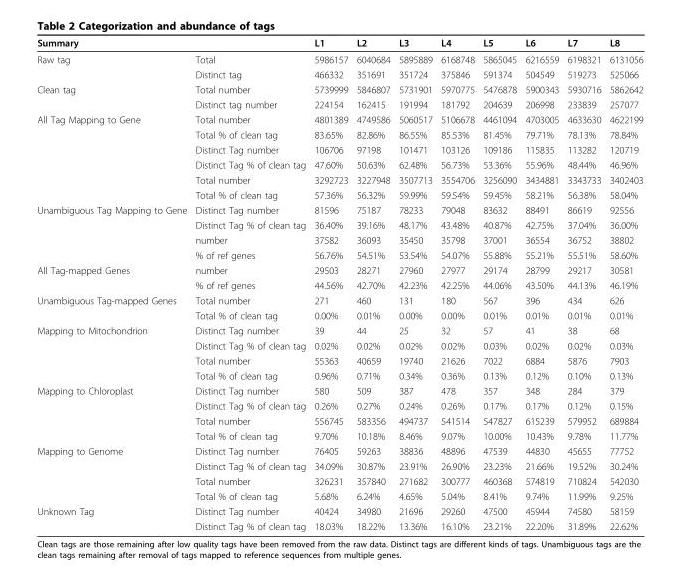table: (36, 36, 642, 531)
table column: (36, 36, 190, 531), (190, 36, 309, 531), (393, 36, 436, 531), (309, 36, 351, 531), (351, 36, 393, 531), (436, 36, 478, 531), (478, 36, 520, 531), (520, 36, 562, 531), (562, 36, 604, 531), (604, 36, 642, 531)
table column header: (36, 36, 642, 50)
table row: (36, 50, 642, 66), (36, 156, 642, 172), (36, 397, 642, 413), (36, 66, 642, 81), (36, 81, 642, 96), (36, 96, 642, 111), (36, 111, 642, 126), (36, 126, 642, 141), (36, 141, 642, 156), (36, 172, 642, 187), (36, 187, 642, 202), (36, 202, 642, 217), (36, 217, 642, 232), (36, 232, 642, 247), (36, 247, 642, 262), (36, 262, 642, 277), (36, 277, 642, 292), (36, 292, 642, 307), (36, 307, 642, 322), (36, 322, 642, 337), (36, 337, 642, 352), (36, 352, 642, 367), (36, 367, 642, 382), (36, 382, 642, 397), (36, 413, 642, 428), (36, 428, 642, 443), (36, 443, 642, 458), (36, 458, 642, 473), (36, 473, 642, 488), (36, 488, 642, 503), (36, 503, 642, 518), (36, 36, 642, 50), (36, 518, 642, 531)
table spanning cell: (36, 111, 190, 202), (36, 382, 190, 443), (36, 202, 190, 262), (36, 322, 190, 382), (36, 443, 190, 503), (36, 50, 190, 81), (36, 81, 190, 111), (36, 262, 190, 292), (36, 292, 190, 322), (36, 503, 190, 531)
